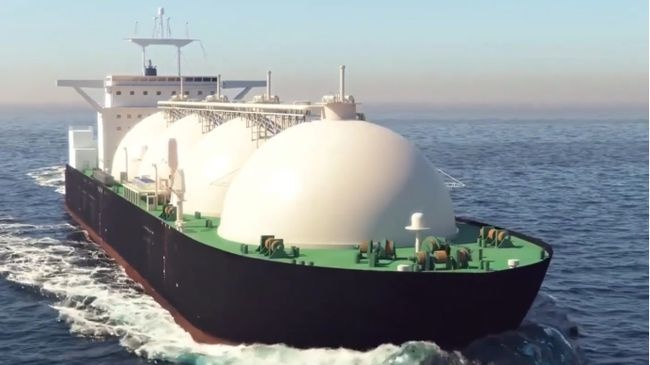Cargoship: (54, 8, 557, 358)
